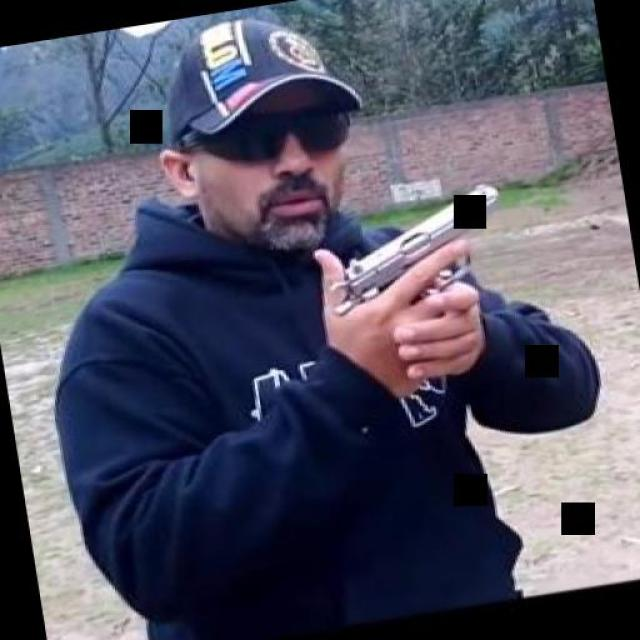gun: (308, 175, 522, 381)
